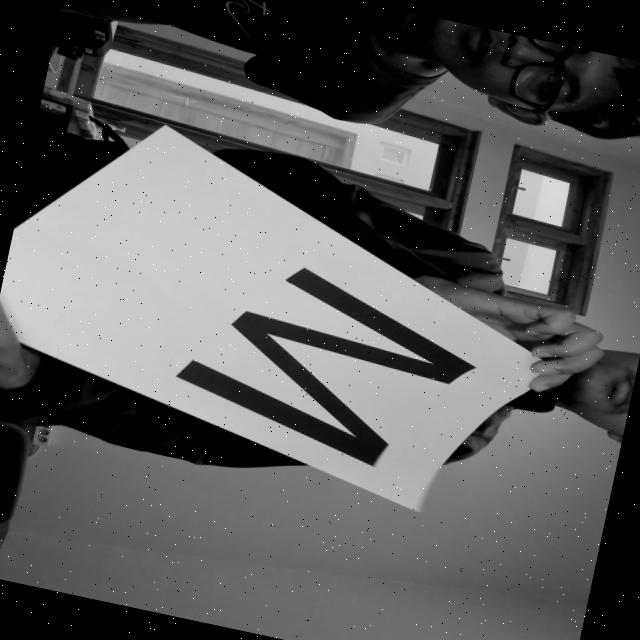m: (144, 218, 509, 492)
